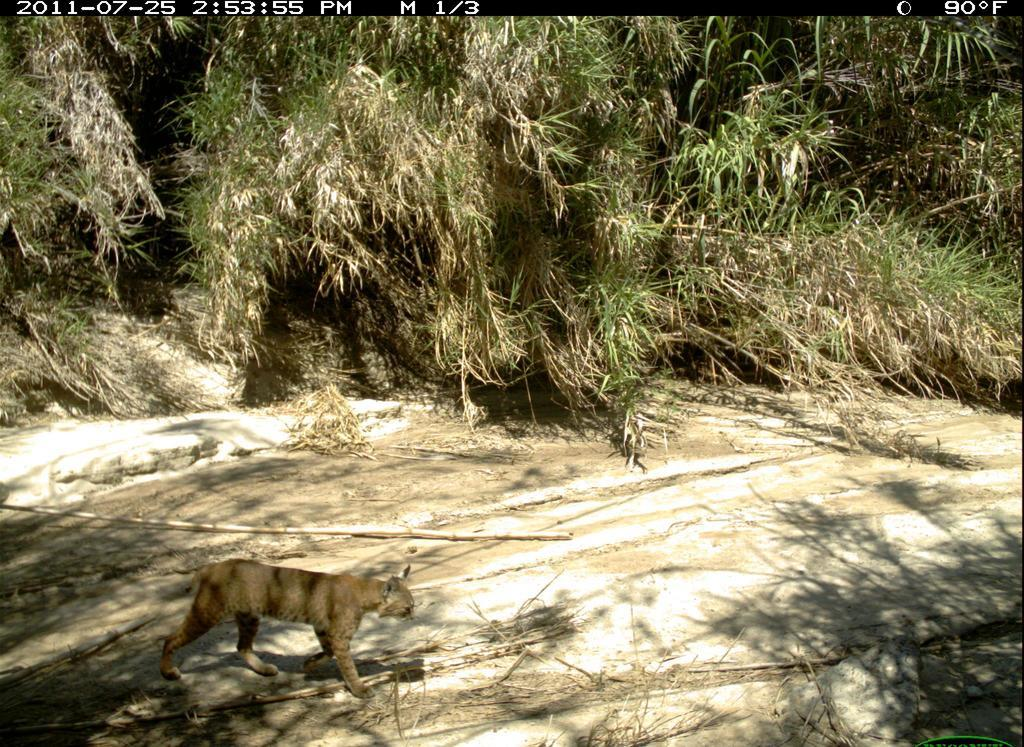bobcat: (149, 552, 433, 706)
